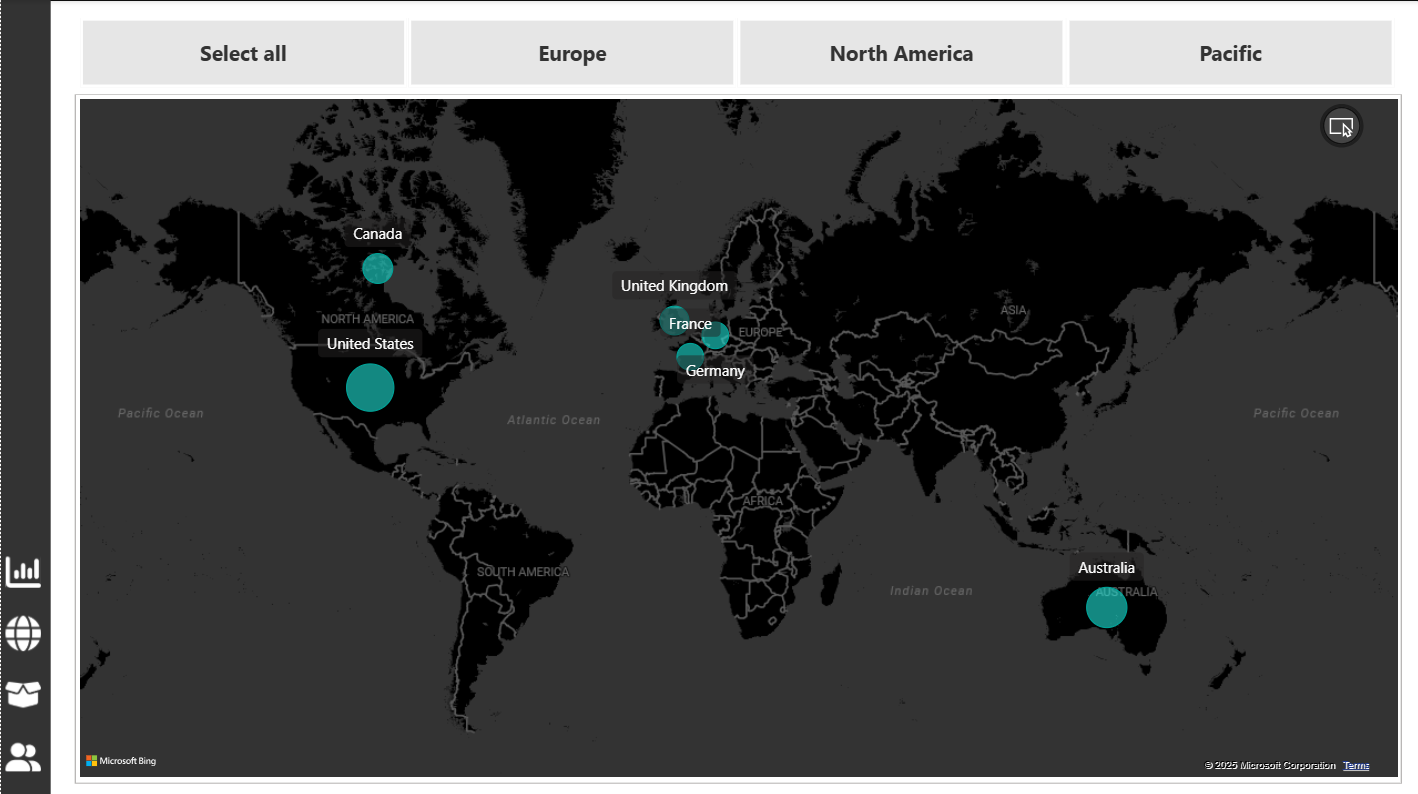

The page's visual inventory and layout, read from the dashboard file:
{"tool":"powerbi","page":{"name":"Map","canvas":[1280,720],"ordinal":1},"visuals":[{"type":"shape","box":[0,0,45,720],"z":0},{"type":"actionButton","box":[0.3,496.5,45.2,40.4],"z":1000,"group":"g1"},{"type":"map","title":"Orders by Country","fields":{"Category":["Territory Lookup.Country"],"Size":["Measure Table.Total Orders"]},"box":[66.2,85,1197.5,621.2],"z":1000},{"type":"slicer","fields":{"Values":["Territory Lookup.Continent"]},"box":[45,8.8,1235,76.2],"z":2000},{"type":"actionButton","box":[0.3,607.4,45.2,40.4],"z":2000,"group":"g1"},{"type":"actionButton","box":[0.3,662.8,45.2,40.4],"z":3000,"group":"g1"},{"type":"group","id":"g1","title":"Navigation button","box":[0.3,496.5,45.2,206.7],"z":3000},{"type":"actionButton","box":[0.3,551.9,45.2,40.4],"z":4000,"group":"g1"}]}

Visuals, with their boxes in screenshot pixels (x1, y1, x2, y2):
shape: box=[0, 4, 49, 787]
actionButton: box=[0, 544, 49, 588]
"Orders by Country" map: box=[72, 96, 1374, 772]
slicer - Territory Lookup.Continent: box=[49, 13, 1392, 96]
actionButton: box=[0, 664, 49, 708]
actionButton: box=[0, 725, 49, 769]
"Navigation button" group: box=[0, 544, 49, 769]
actionButton: box=[0, 604, 49, 648]
